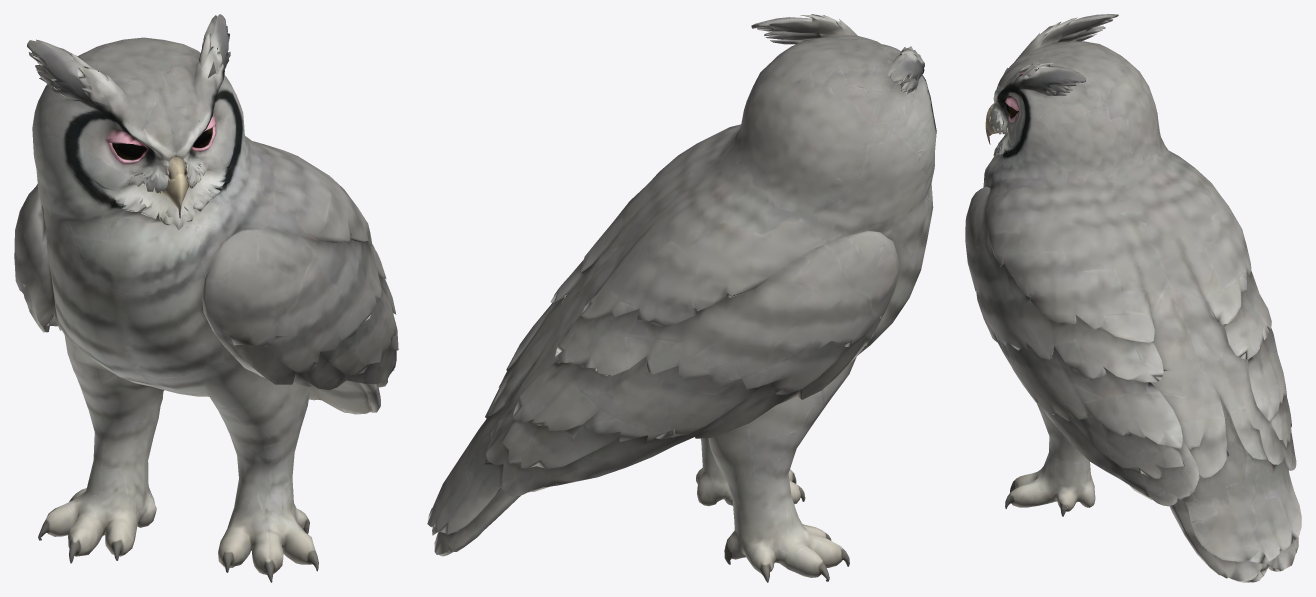
File: owl-verreaux.glb
3 views of the same model, side by side, from view 1: azimuth 30°, elevation 25°; view 2: azimuth 150°, elevation 25°; view 3: azimuth 270°, elevation 25° (orthographic). The views are drawn at different scales.
Parts seen in each view (by area): view 1: geometry_0; view 2: geometry_0; view 3: geometry_0.
Part boxes in pixels (x1=…): geometry_0: x1=14, y1=14, x2=398, y2=582; geometry_0: x1=427, y1=14, x2=936, y2=582; geometry_0: x1=965, y1=14, x2=1301, y2=582.
Size of the model in its own units: 0.7959 by 0.9512 by 0.6914.
Materials: 1 (1 with a texture image).
